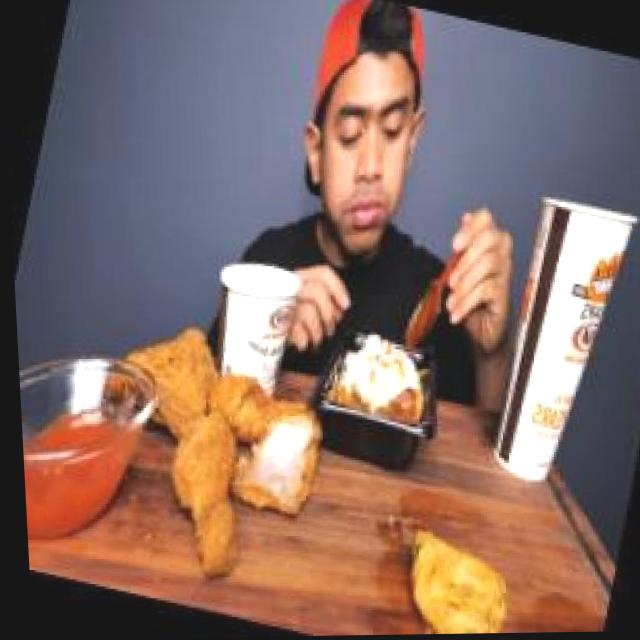AW cola: (454, 158, 640, 505)
black pepper rice bowl: (308, 313, 437, 455)
crispy corn: (187, 237, 311, 398)
fried chicken: (79, 301, 349, 597)
perkedel: (376, 511, 521, 636)
